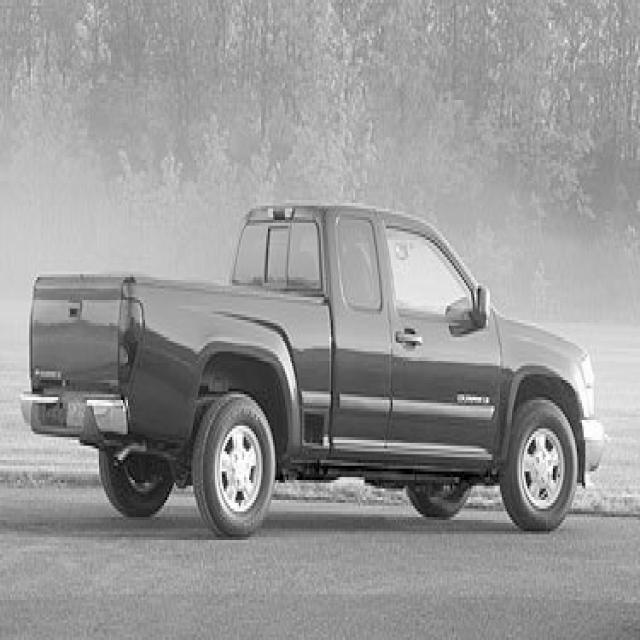car: (19, 200, 604, 534)
